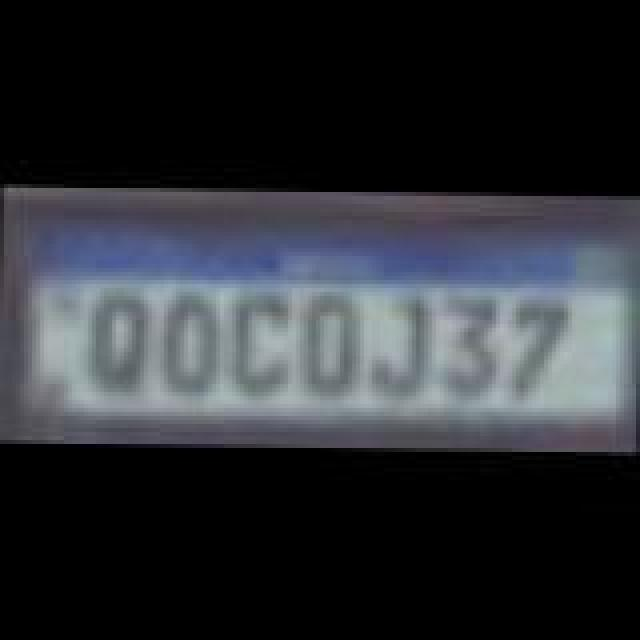3: (436, 286, 508, 402)
7: (506, 290, 566, 398)
C: (230, 292, 298, 396)
D: (302, 294, 354, 394)
J: (372, 294, 436, 402)
O: (164, 288, 220, 400)
Q: (94, 288, 146, 392)
